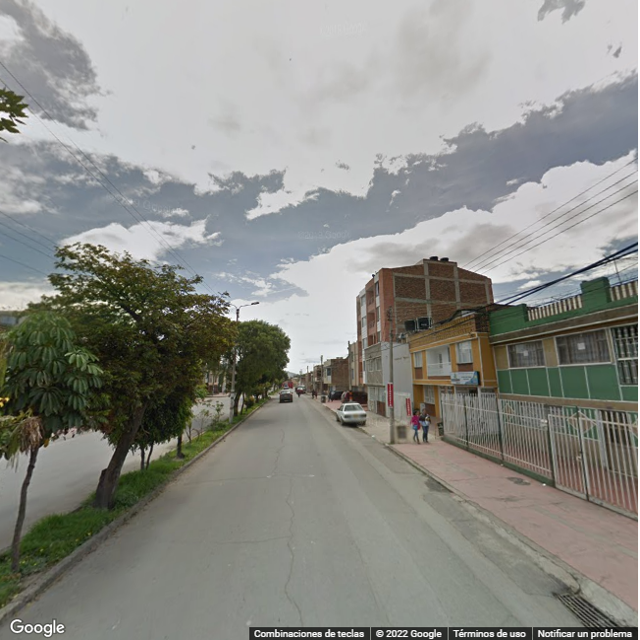D00: (285, 530, 307, 628)
D10: (195, 534, 288, 550)
